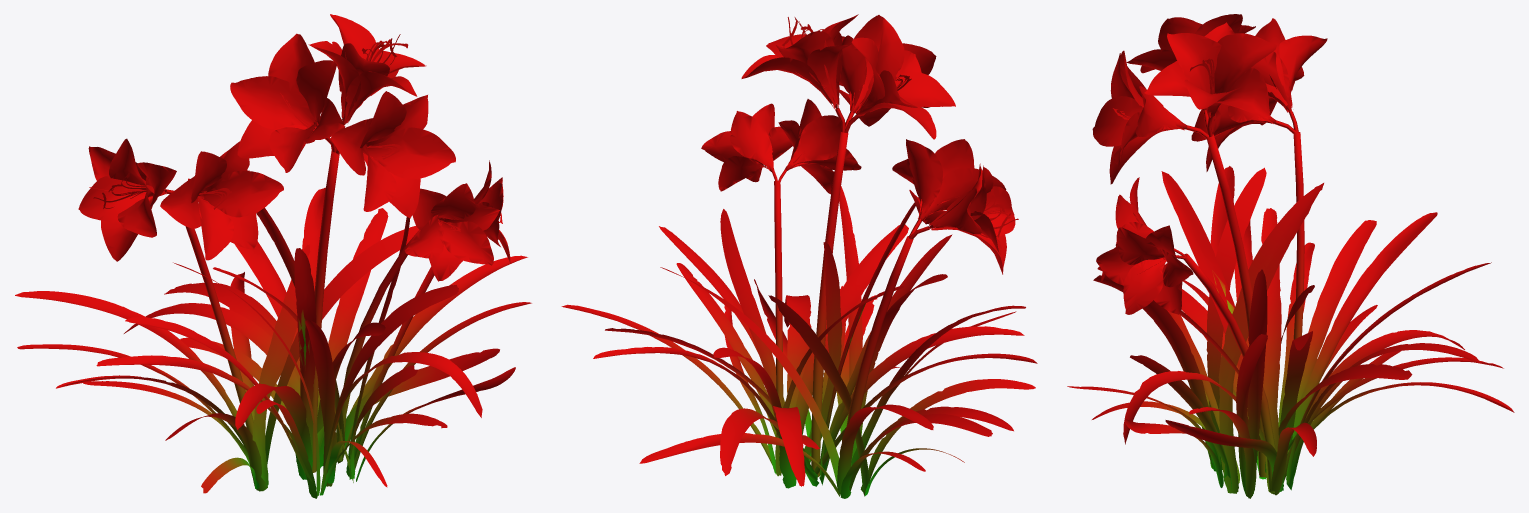
File: SM_Amaryllis_02.FBX
3 renders of one model, left to right at view 1: azimuth 30°, elevation 25°; view 2: azimuth 150°, elevation 25°; view 3: azimuth 270°, elevation 25°, orthographic. The views are drawn at different scales.
Parts seen in each view (by area): view 1: SM_Amaryllis_02; view 2: SM_Amaryllis_02; view 3: SM_Amaryllis_02.
Part boxes in pixels (x1,y1,x2,y2): SM_Amaryllis_02: (15,14,531,498); SM_Amaryllis_02: (561,14,1037,498); SM_Amaryllis_02: (1067,14,1514,498).
Bounding box in the file's own units: 101 × 82.1 × 92.41.
